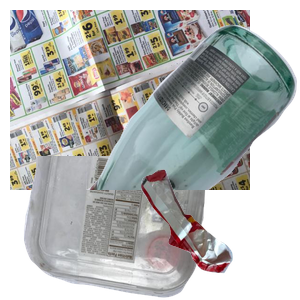glass: (86, 22, 300, 202)
paper: (10, 10, 250, 190)
plastic: (21, 156, 226, 300)
trash: (139, 167, 300, 300)
